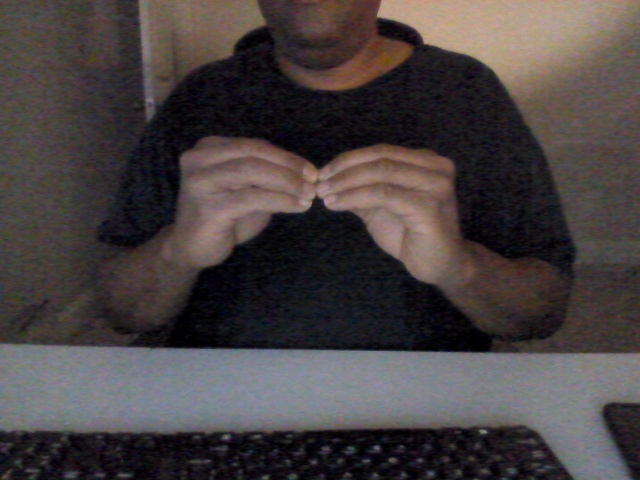more: (173, 131, 464, 289)
